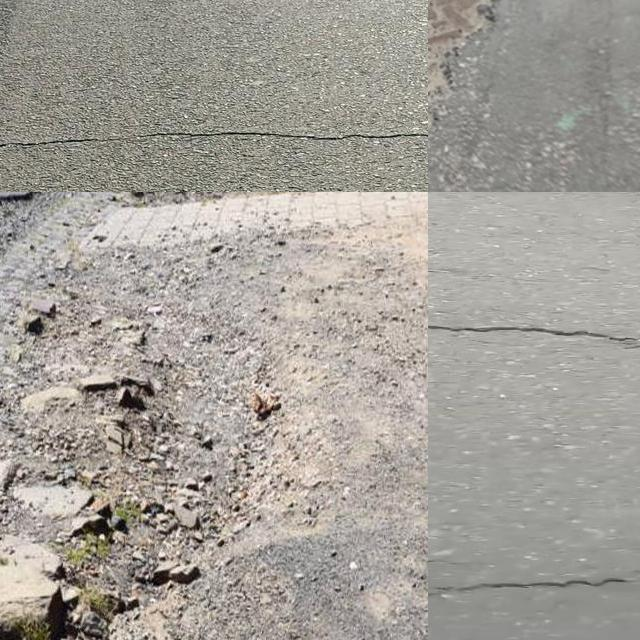Lubang: (428, 0, 498, 96)
Melintang: (0, 115, 428, 163), (428, 309, 640, 361), (428, 553, 640, 600)
